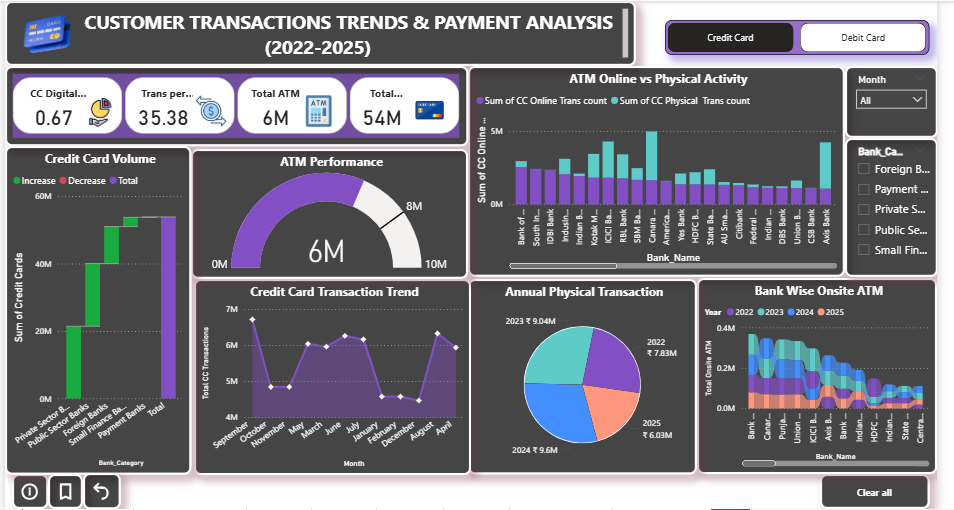

This screenshot's page, from the dashboard's own definition file:
{"tool":"powerbi","page":{"name":"Credit Card","canvas":[1336,728],"ordinal":6},"visuals":[{"type":"textbox","box":[0,0,903.6,93.4],"z":0},{"type":"actionButton","box":[1167.9,678.1,156.6,50.3],"z":1000},{"type":"actionButton","box":[10.1,678.1,51.7,50.3],"z":2000},{"type":"pageNavigator","box":[945.3,27.3,379.3,50.3],"z":3000},{"type":"columnChart","title":"ATM Online vs Physical Activity","fields":{"Category":["ATM_POS_Status.Bank_Name"],"Y":["Sum(ATM_POS_Status.CC Online Trans count)","Sum(ATM_POS_Status.CC Physical  Trans count)"]},"box":[663.7,93.4,540.1,301.7],"z":4000},{"type":"ribbonChart","title":"Bank Wise Onsite ATM","fields":{"Category":["ATM_POS_Status.Bank_Name"],"Y":["CC Measures.Total Onsite ATM"],"Series":["Calendar.Year"]},"box":[991.7,397,343.9,280.9],"z":5000},{"type":"pieChart","title":"Annual Physical Transaction","fields":{"Y":["CC Measures.Total CC Physical Trans Values"],"Category":["Calendar.Year"]},"box":[663.7,397.9,327.5,280.1],"z":6000},{"type":"cardVisual","fields":{"Data":["CC Measures.CC Digital Ratio","CC Measures.Trans per ATM","CC Measures.Total ATM","CC Measures.Total CreditCards"]},"box":[0,93.4,663.7,114.9],"z":7000},{"type":"areaChart","title":"Credit Card Transaction Trend","fields":{"Category":["Calendar.Month"],"Y":["CC Measures.Total CC Transactions"]},"box":[270.9,398.4,397,280.9],"z":8000},{"type":"gauge","title":"ATM Performance","fields":{"Y":["CC Measures.Total ATM"],"MaxValue":["CC Measures.Maximum ATM"],"TargetValue":["CC Measures.Target"]},"box":[266.6,212.1,397,186.3],"z":9000},{"type":"waterfallChart","title":"Credit Card Volume","fields":{"Category":["ATM_POS_Status.Bank_Category"],"Y":["Sum(ATM_POS_Status.Credit Cards)"]},"box":[0,208.3,267.2,471.2],"z":10000},{"type":"slicer","fields":{"Values":["Calendar.Month"]},"box":[1203.2,93.3,132.8,102.8],"z":11000},{"type":"slicer","fields":{"Values":["ATM_POS_Status.Bank_Category"]},"box":[1203.2,196.1,132.8,199.2],"z":12000},{"type":"actionButton","box":[61.6,677.8,50.2,50.2],"z":13001},{"type":"actionButton","box":[111.8,676.4,54.5,51.6],"z":13003},{"type":"image","box":[14,0,93.2,93.2],"z":13004}]}

Visuals, with their boxes in screenshot pixels (x1, y1, x2, y2), scaled from the page's 1336x728 canvas onto the 954x510 screenshot:
textbox: bbox(0, 0, 645, 65)
actionButton: bbox(834, 475, 946, 509)
actionButton: bbox(7, 475, 44, 509)
pageNavigator: bbox(675, 19, 946, 54)
"ATM Online vs Physical Activity" columnChart: bbox(474, 65, 860, 277)
"Bank Wise Onsite ATM" ribbonChart: bbox(708, 278, 953, 475)
"Annual Physical Transaction" pieChart: bbox(474, 279, 708, 475)
cardVisual - CC Measures.CC Digital Ratio x CC Measures.Trans per ATM: bbox(0, 65, 474, 146)
"Credit Card Transaction Trend" areaChart: bbox(193, 279, 477, 476)
"ATM Performance" gauge: bbox(190, 149, 474, 279)
"Credit Card Volume" waterfallChart: bbox(0, 146, 191, 476)
slicer - Calendar.Month: bbox(859, 65, 953, 137)
slicer - ATM_POS_Status.Bank_Category: bbox(859, 137, 953, 277)
actionButton: bbox(44, 475, 80, 509)
actionButton: bbox(80, 474, 119, 509)
image: bbox(10, 0, 77, 65)
